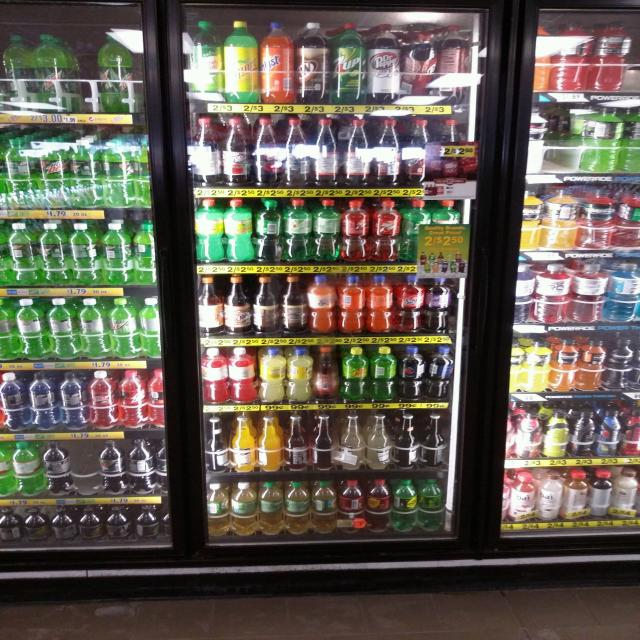unorganised: (401, 28, 437, 104), (98, 222, 133, 285), (338, 274, 368, 339), (425, 343, 455, 405), (10, 222, 39, 285), (370, 344, 397, 403), (132, 222, 154, 286)
